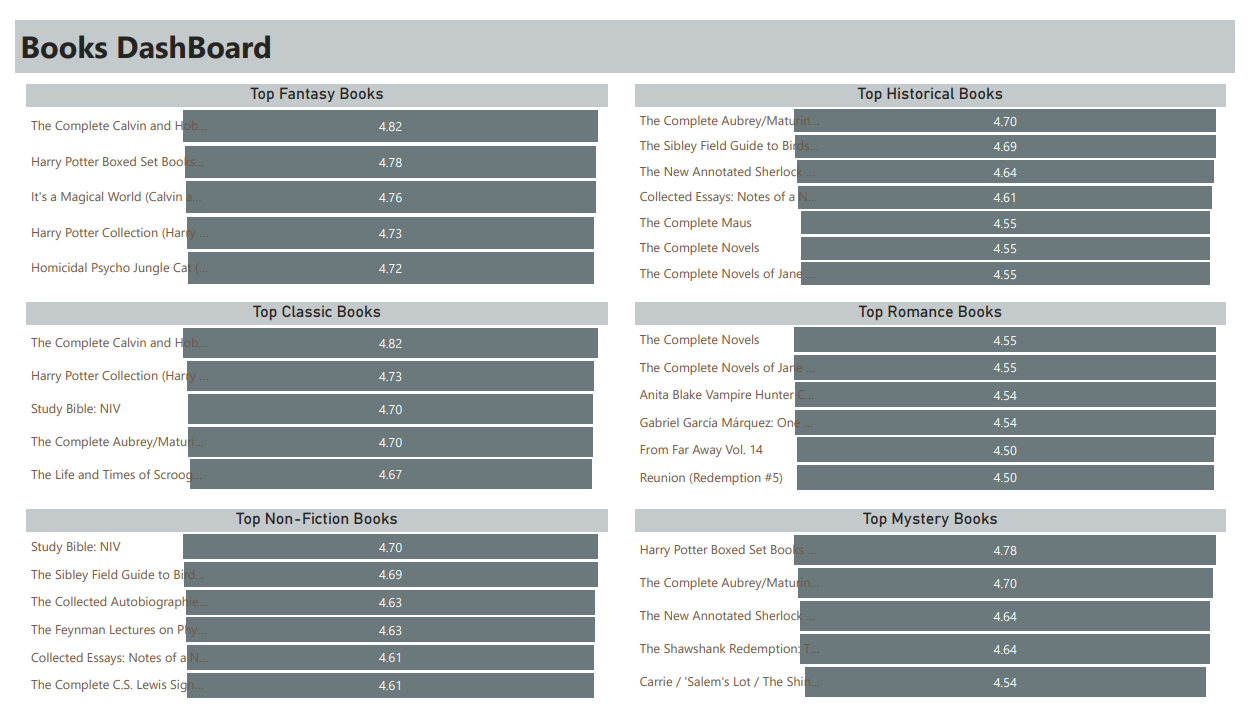

What the dashboard file says about the page in this screenshot:
{"tool":"powerbi","page":{"name":"Page 3","canvas":[1280,720],"ordinal":2},"visuals":[{"type":"funnel","title":"Top Fantasy Books","fields":{"Category":["Goodreads_books_with_genres.Title"],"Y":["Goodreads_books_with_genres.average_rating"]},"box":[11.4,68.2,609.7,218.4],"z":0},{"type":"funnel","title":"Top Classic Books","fields":{"Category":["Goodreads_books_with_genres.Title"],"Y":["Goodreads_books_with_genres.average_rating"]},"box":[11.4,296.6,609.7,205.8],"z":1000},{"type":"funnel","title":"Top Non-Fiction Books","fields":{"Category":["Goodreads_books_with_genres.Title"],"Y":["Goodreads_books_with_genres.average_rating"]},"box":[11.4,513.8,609.7,205.8],"z":2000},{"type":"actionButton","box":[0,0,100,40],"z":3000},{"type":"funnel","title":"Top Historical Books","fields":{"Category":["Goodreads_books_with_genres.Title"],"Y":["Goodreads_books_with_genres.average_rating"]},"box":[650.1,68.2,619.8,218.4],"z":4000},{"type":"funnel","title":"Top Romance Books","fields":{"Category":["Goodreads_books_with_genres.Title"],"Y":["Goodreads_books_with_genres.average_rating"]},"box":[650.1,296.6,619.8,205.8],"z":5000},{"type":"funnel","title":"Top Mystery Books","fields":{"Category":["Goodreads_books_with_genres.Title"],"Y":["Goodreads_books_with_genres.average_rating"]},"box":[650.1,513.8,619.8,205.8],"z":6000},{"type":"slicer","fields":{"Values":["Goodreads_books_with_genres.Year"]},"box":[764.7,9.4,196.5,45.9],"z":6500},{"type":"slicer","fields":{"Values":["Goodreads_books_with_genres.Author"]},"box":[1002.4,9.4,247.1,45.9],"z":6750},{"type":"textbox","box":[0,1.1,1279.5,54.9],"z":7000}]}

Visuals, with their boxes on the page's 1280x720 design canvas (x1, y1, x2, y2). These are canvas units, not pixel positions in the 1255x726 screenshot, which may show the page scaled, cropped or inside an application window:
"Top Fantasy Books" funnel: bbox(11, 68, 621, 287)
"Top Classic Books" funnel: bbox(11, 297, 621, 502)
"Top Non-Fiction Books" funnel: bbox(11, 514, 621, 720)
actionButton: bbox(0, 0, 100, 40)
"Top Historical Books" funnel: bbox(650, 68, 1270, 287)
"Top Romance Books" funnel: bbox(650, 297, 1270, 502)
"Top Mystery Books" funnel: bbox(650, 514, 1270, 720)
slicer - Goodreads_books_with_genres.Year: bbox(765, 9, 961, 55)
slicer - Goodreads_books_with_genres.Author: bbox(1002, 9, 1250, 55)
textbox: bbox(0, 1, 1280, 56)
